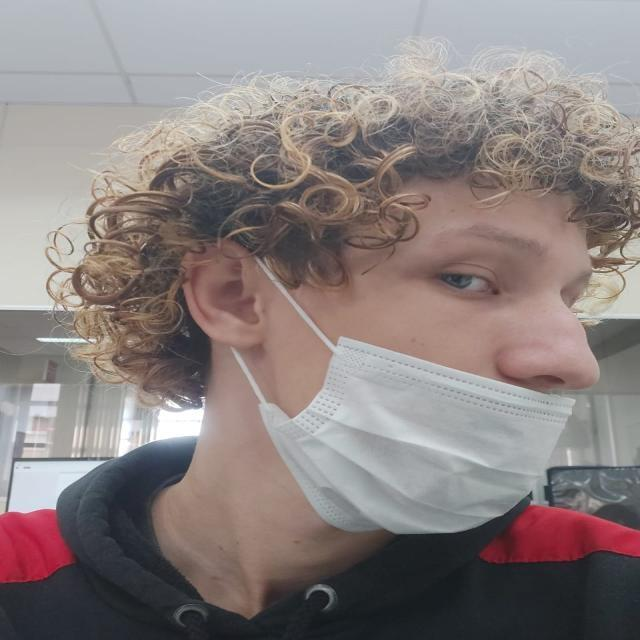hairnet: (244, 285, 612, 542)
